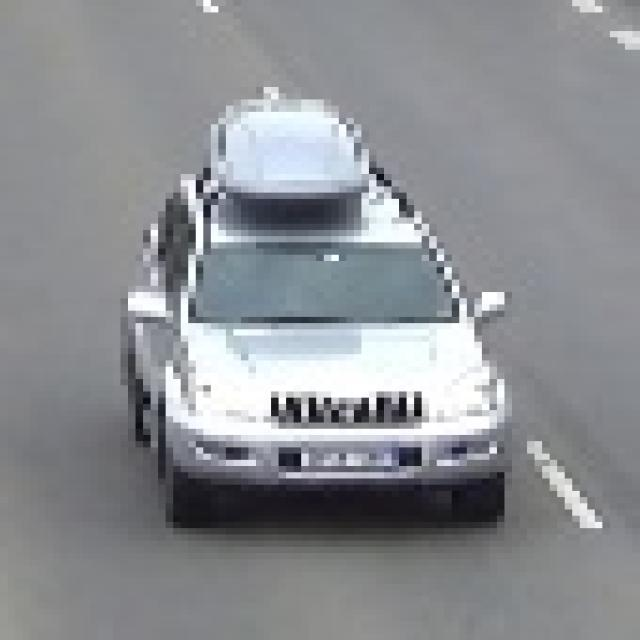SUV: (143, 171, 477, 509)
